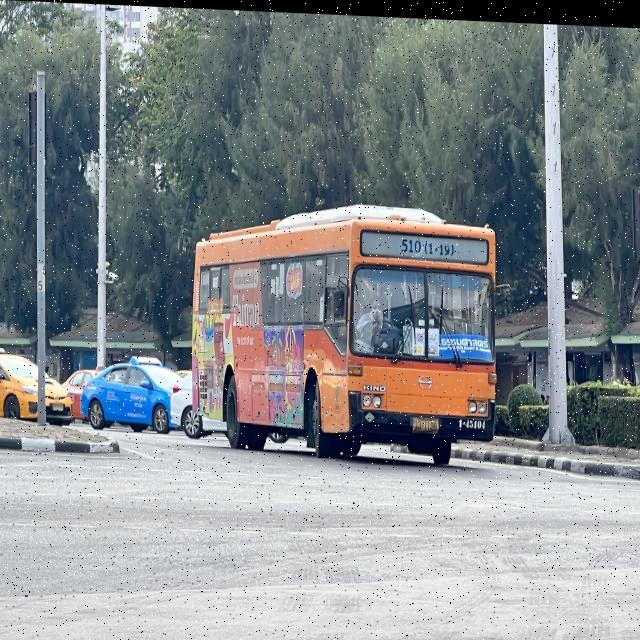BMTA-bus: (182, 196, 498, 466)
Bus-Line-Number: (397, 227, 459, 258)
Destination-Sign-Normal: (438, 327, 493, 356)
